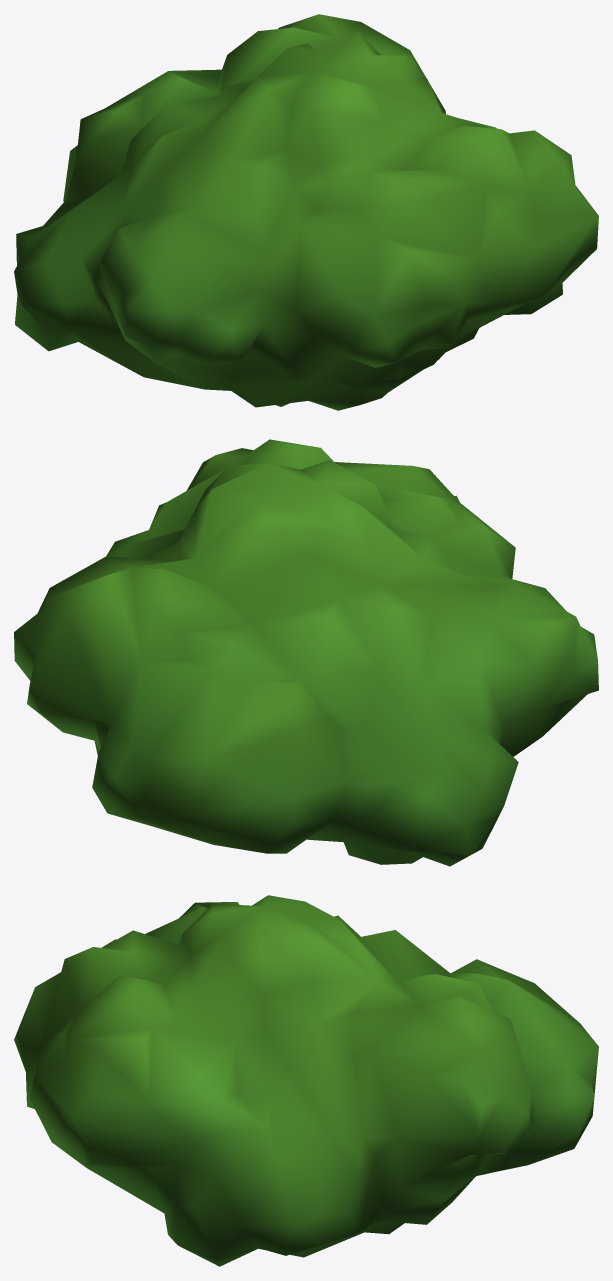
File: bush.glb
3 renders of one model, top to bottom at view 1: azimuth 30°, elevation 25°; view 2: azimuth 150°, elevation 25°; view 3: azimuth 270°, elevation 25°, orthographic. The views are drawn at different scales.
Visible parts, largest first — view 1: Bush A Leaves; view 2: Bush A Leaves; view 3: Bush A Leaves.
Boxes of the visible parts, left/top/right/bottom form: Bush A Leaves: left=14, top=14, right=598, bottom=410; Bush A Leaves: left=14, top=439, right=598, bottom=866; Bush A Leaves: left=14, top=895, right=598, bottom=1266.
Size of the model in its own units: 1.89 by 1.19 by 1.95.
